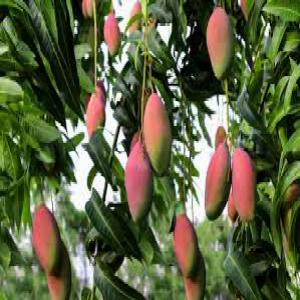Tree: (0, 2, 299, 296)
